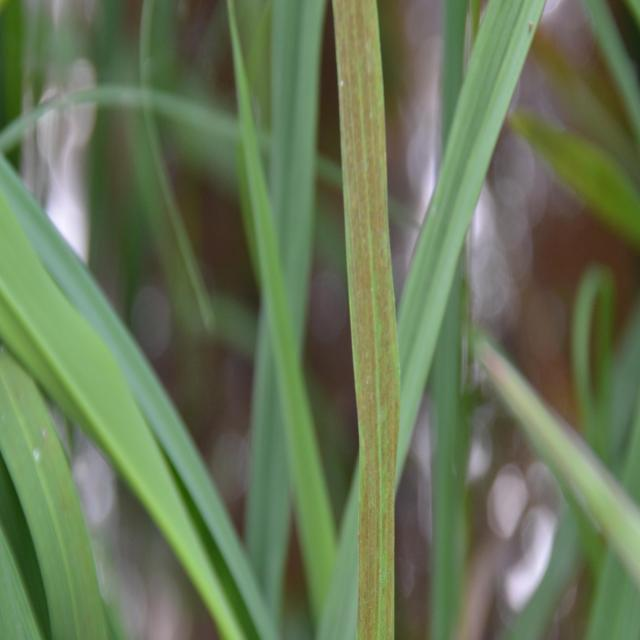Rice Tungro: (334, 29, 404, 618)
